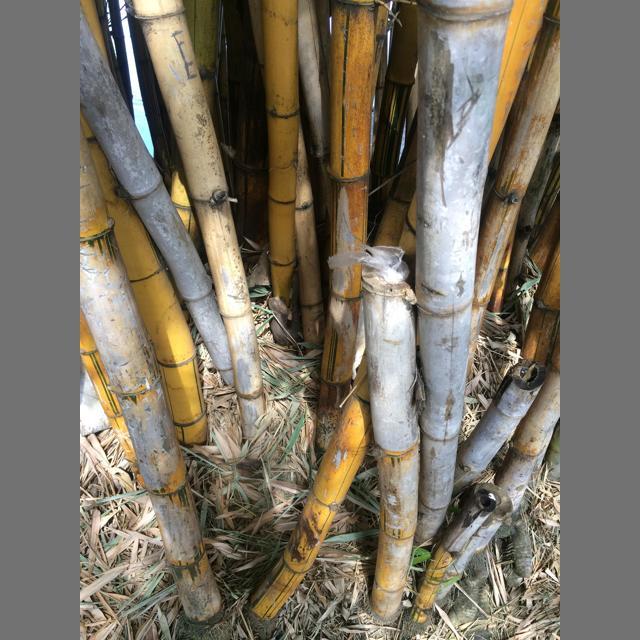litter: (327, 244, 409, 283)
